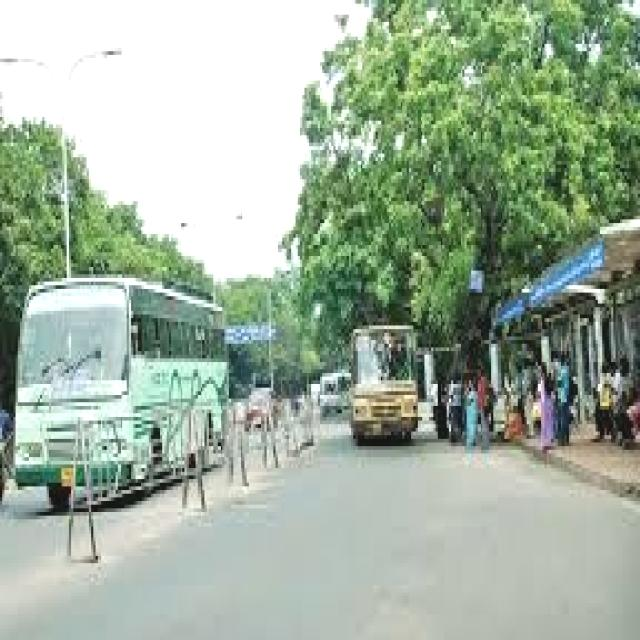bus: (8, 254, 255, 498), (331, 313, 438, 459)
